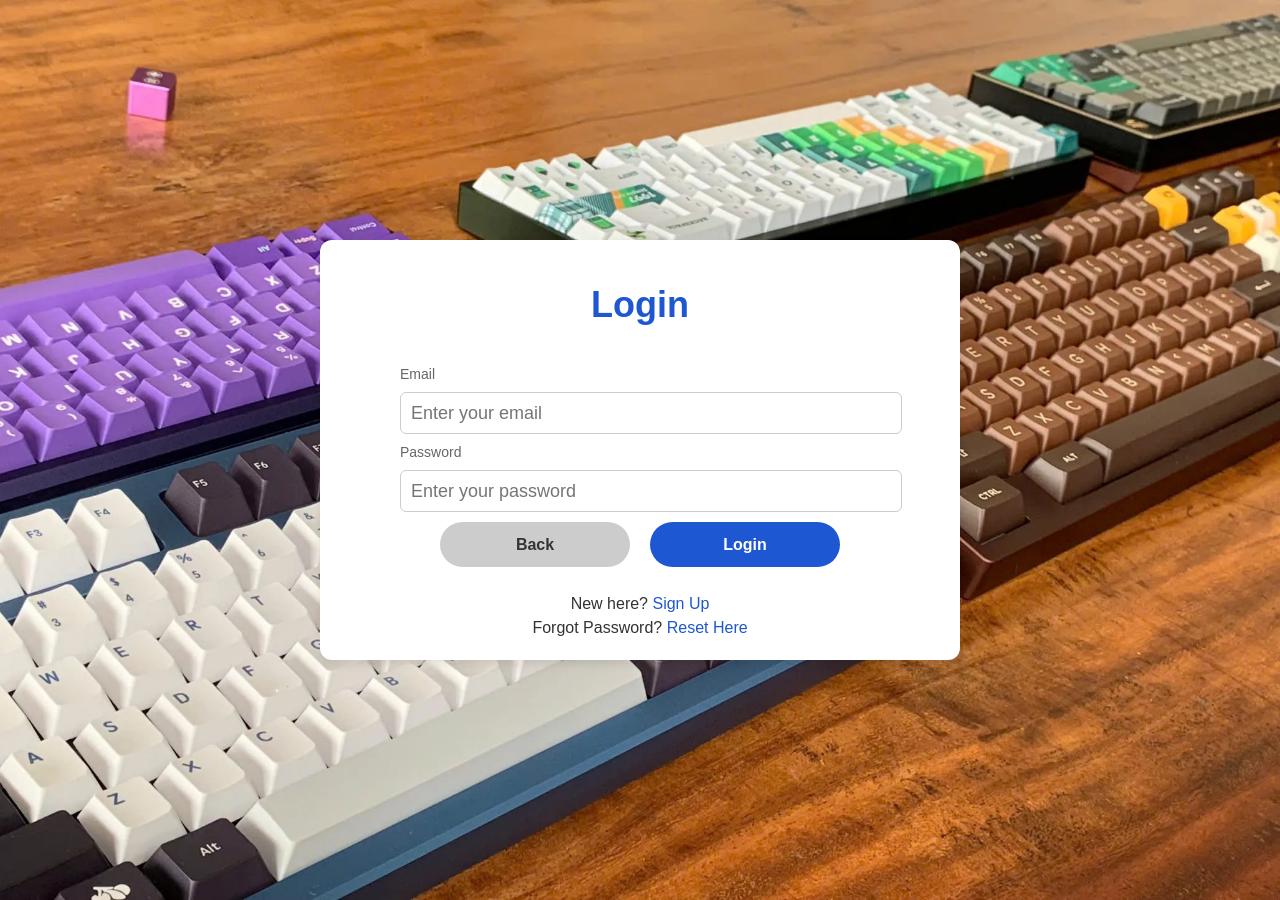
Test: shows an error when email format is invalid
Type "not-an-email" into the field labelled "Email". click: (651, 413)
box: [400,392,902,434]
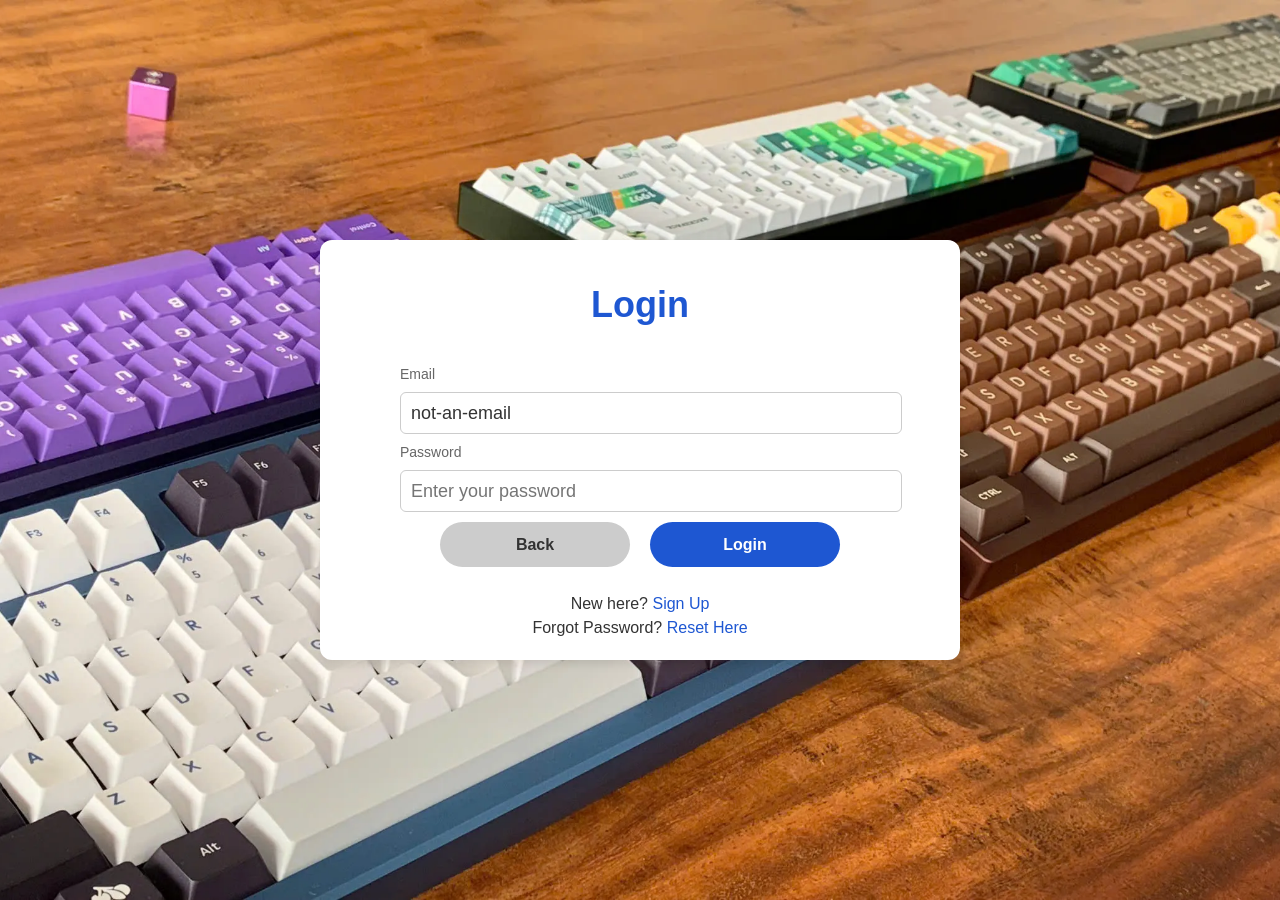
Type "password123!" into the password field labelled "Password". click: (651, 491)
box: [400,470,902,512]
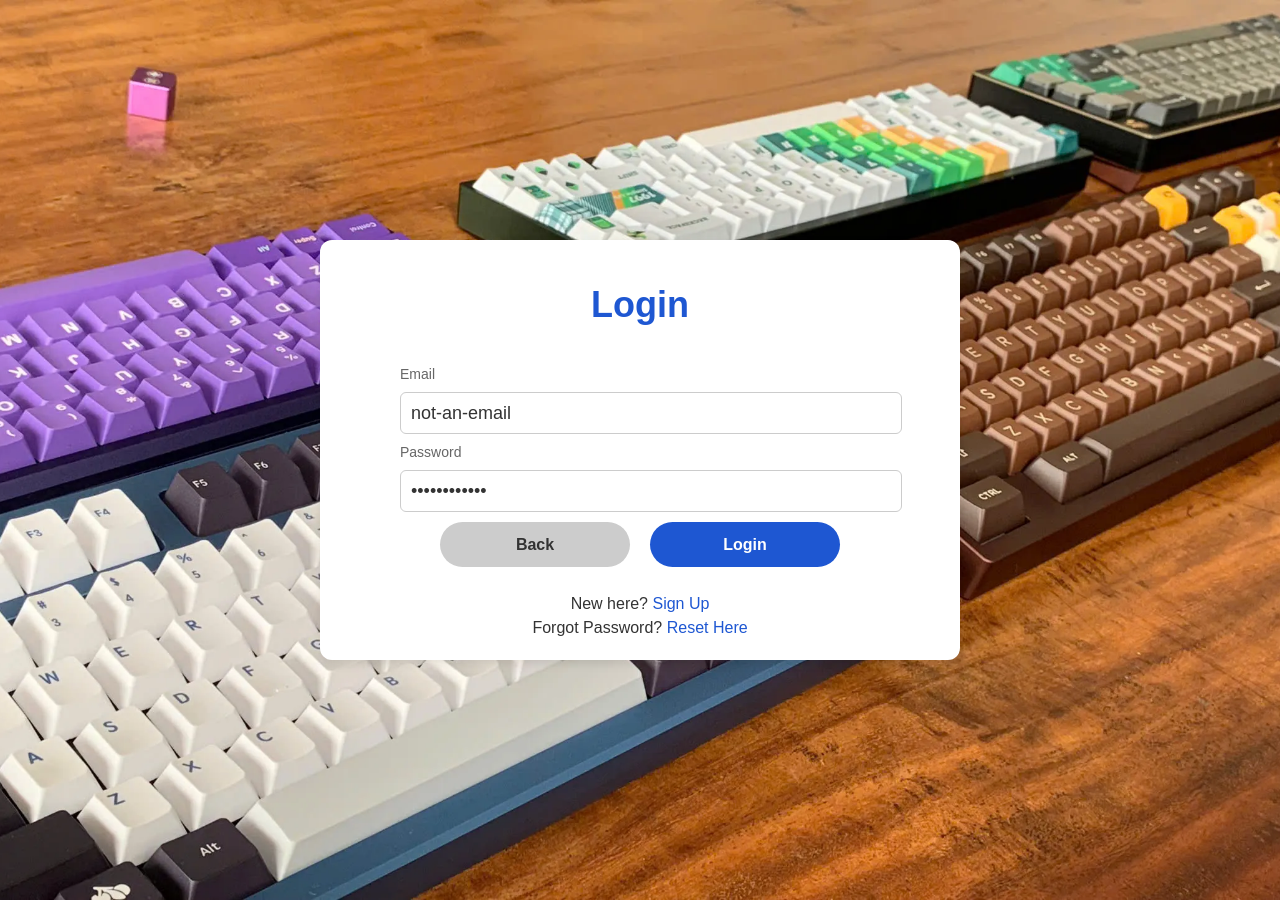
Click the button "Login". click: (745, 544)
box: [650,522,840,567]
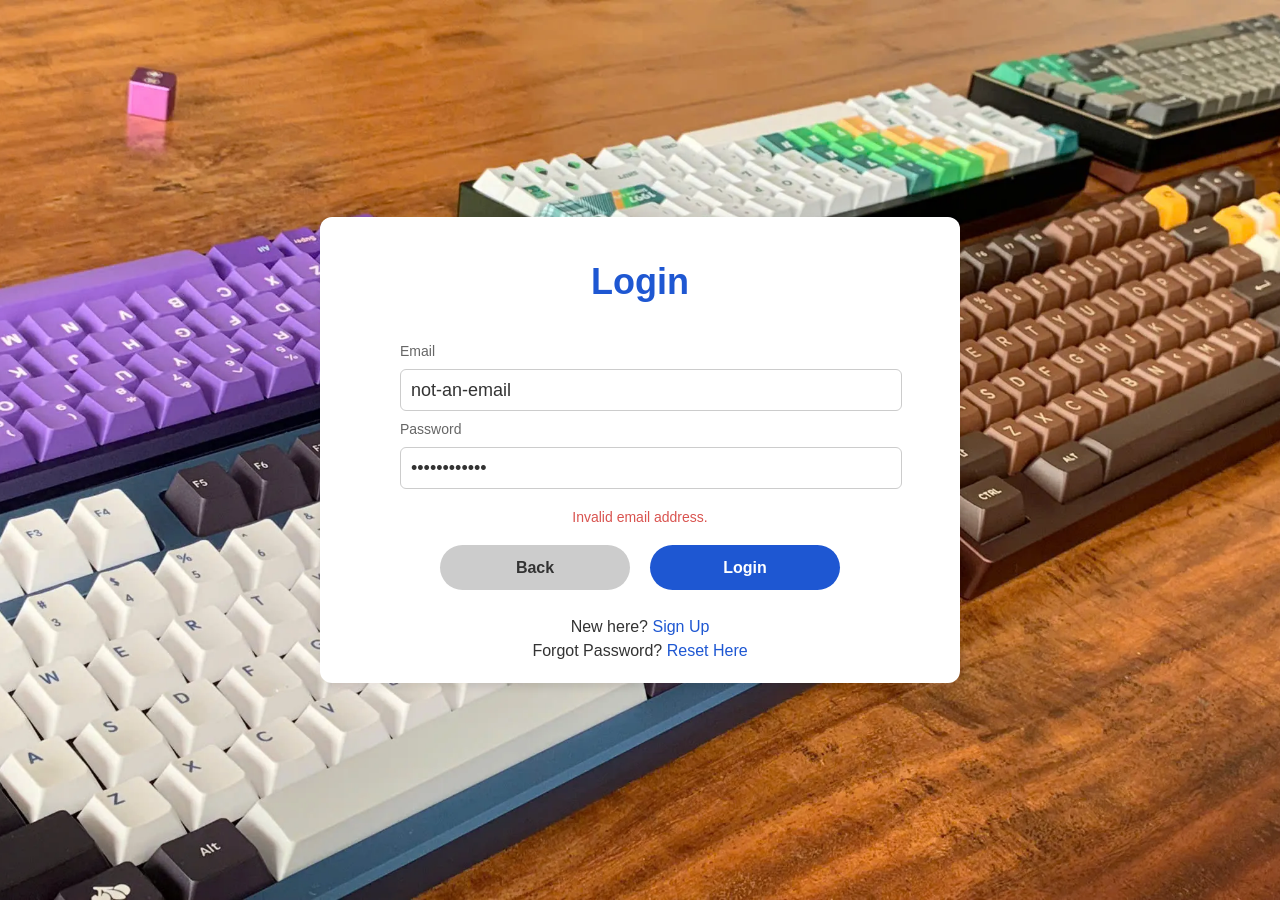
Check: the text "Invalid email address." is shown, box [572,509,708,525]
